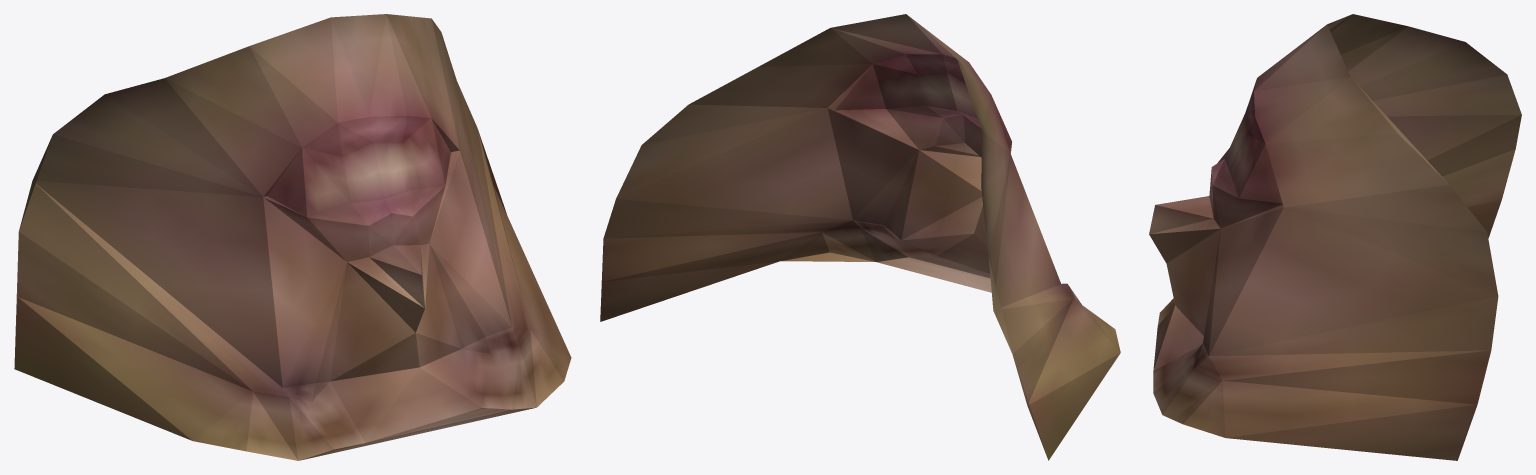
Rendered from real_10430.obj.
3 views of the same model, side by side, from view 1: azimuth 30°, elevation 25°; view 2: azimuth 150°, elevation 25°; view 3: azimuth 270°, elevation 25° (orthographic). The views are drawn at different scales.
Bounding box in the file's own units: 115 × 80 × 80.48.
